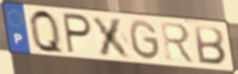B: (193, 24, 228, 67)
G: (127, 18, 162, 62)
P: (62, 11, 94, 56)
Q: (28, 7, 67, 57)
R: (158, 20, 198, 66)
X: (90, 15, 135, 61)
